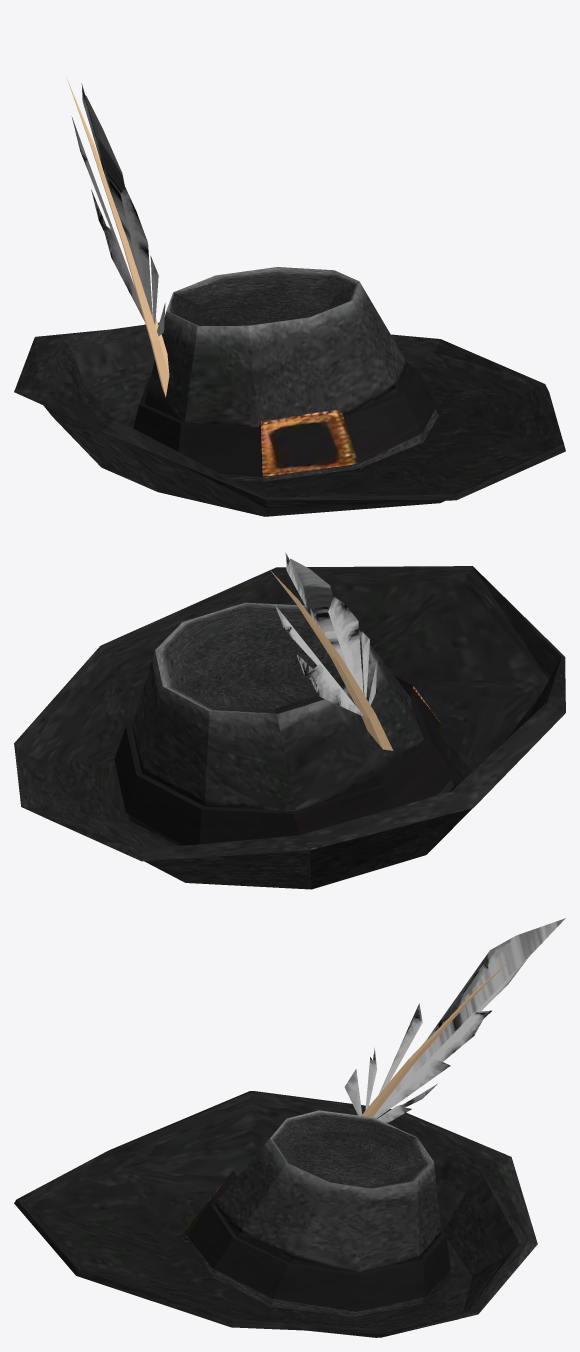
File: KAPELUSZ_MUSZKIETERA.glb
The picture shows the model from 3 angles, top to bottom: view 1: azimuth 30°, elevation 25°; view 2: azimuth 150°, elevation 25°; view 3: azimuth 270°, elevation 25°; orthographic projection. The views are drawn at different scales.
Parts seen in each view (by area): view 1: KAPELUSZ_MUSZKIETERA; view 2: KAPELUSZ_MUSZKIETERA; view 3: KAPELUSZ_MUSZKIETERA.
Part boxes in pixels (x1,y1,x2,y2): KAPELUSZ_MUSZKIETERA: (14,76,565,516); KAPELUSZ_MUSZKIETERA: (14,552,565,889); KAPELUSZ_MUSZKIETERA: (14,918,565,1337).
Bounding box in the file's own units: 0.4609 × 0.37 × 0.5782.
Materials: 1 (1 with a texture image).
